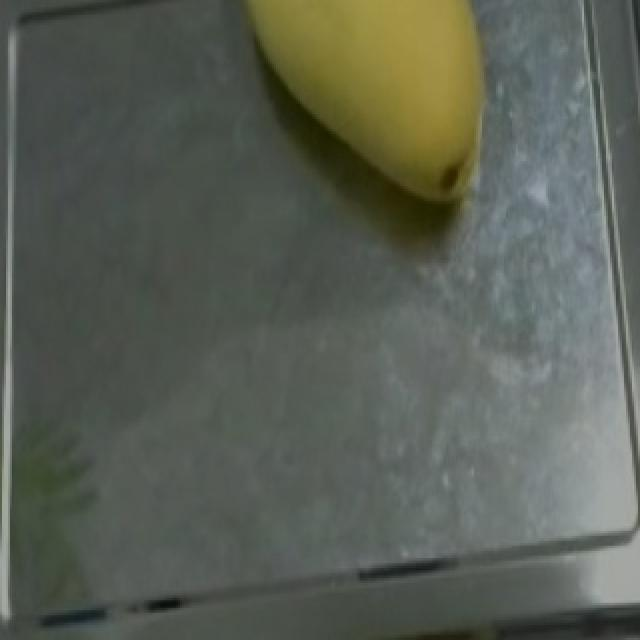fruit: (220, 0, 506, 223)
